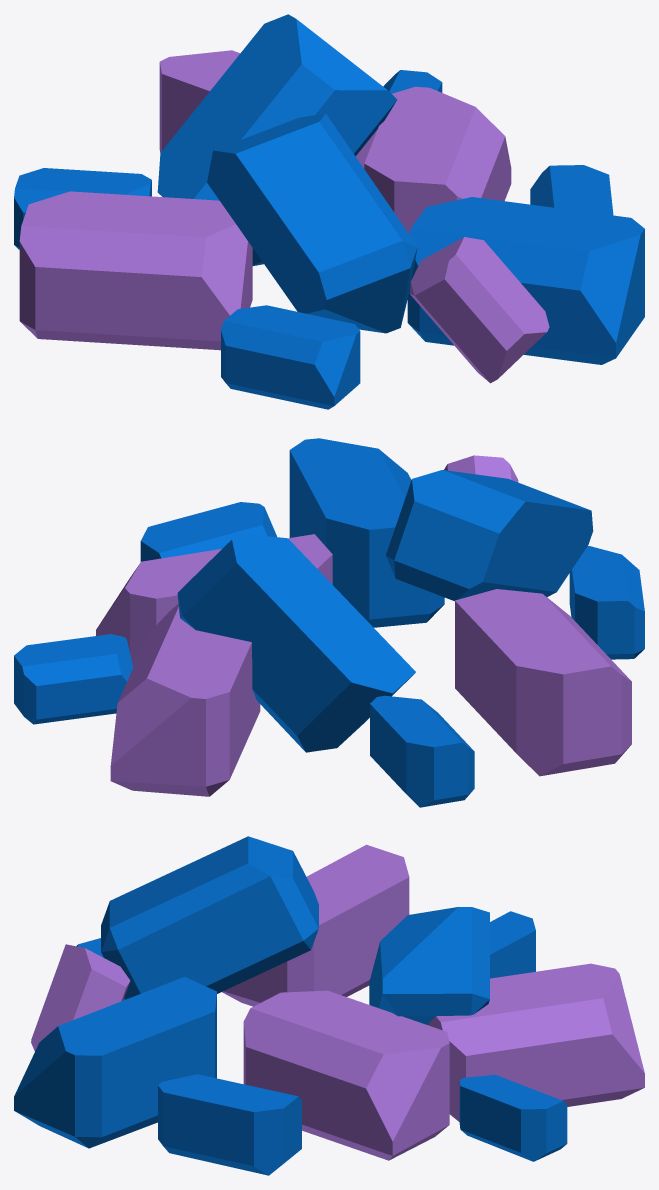
File: Nut - Chopped.fbx
3 renders of one model, top to bottom at view 1: azimuth 30°, elevation 25°; view 2: azimuth 150°, elevation 25°; view 3: azimuth 270°, elevation 25°, orthographic. The views are drawn at different scales.
Parts seen in each view (by area): view 1: Potato___Chopped__1_; view 2: Potato___Chopped__1_; view 3: Potato___Chopped__1_.
Part boxes in pixels (x1,y1,x2,y2): Potato___Chopped__1_: (14,14,644,409); Potato___Chopped__1_: (14,438,644,807); Potato___Chopped__1_: (14,836,644,1175).
Bounding box in the file's own units: 32.78 × 12.07 × 36.4.
